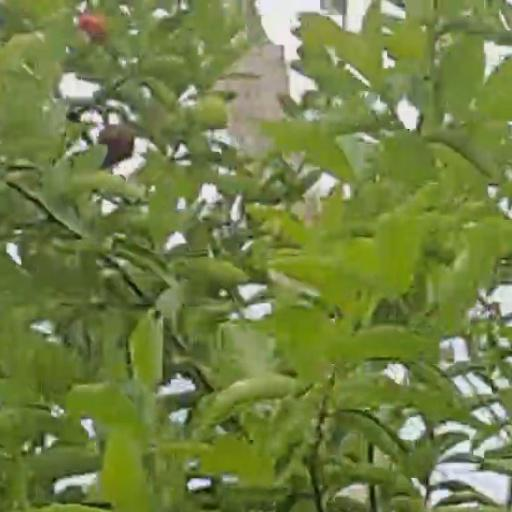acerola: (99, 122, 131, 158), (81, 11, 105, 42)
